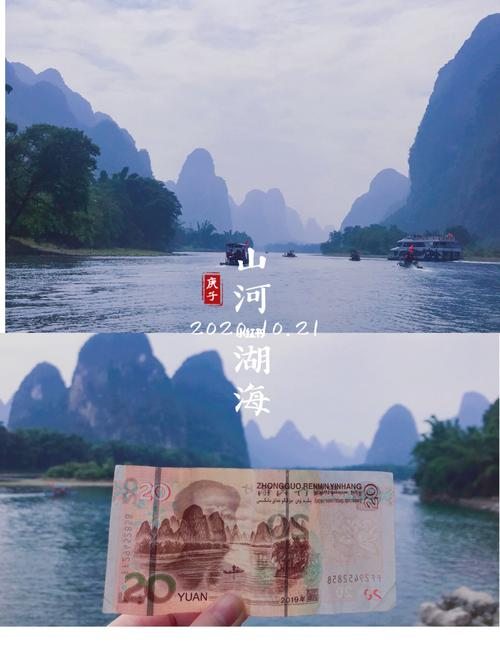mountain: (19, 328, 284, 456), (391, 30, 497, 242), (14, 66, 155, 179), (177, 141, 234, 231)
